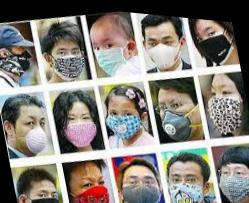OK: (205, 77, 246, 133), (190, 15, 236, 64), (93, 28, 135, 79), (156, 90, 199, 139), (14, 108, 53, 158), (72, 164, 117, 203), (61, 106, 101, 149), (145, 25, 183, 69), (166, 164, 208, 203), (107, 98, 145, 140), (216, 157, 249, 203), (53, 41, 88, 79), (5, 37, 36, 79), (29, 182, 68, 203)
WRONG: (120, 168, 165, 203)
